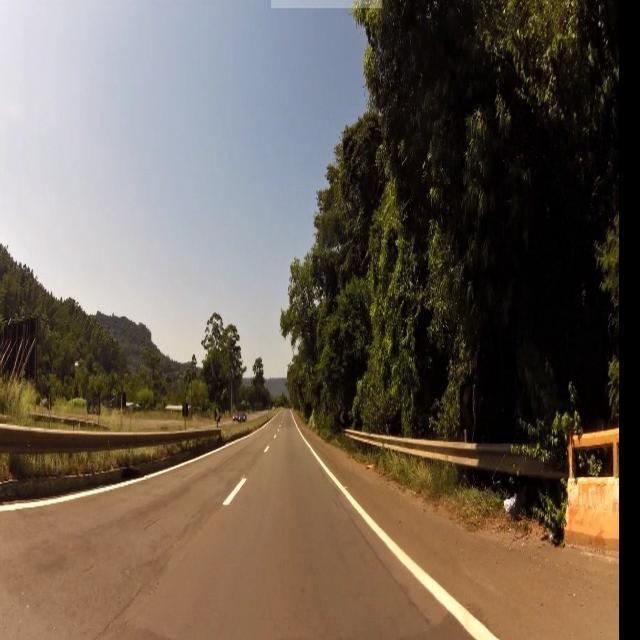Del: (461, 388, 471, 423)
